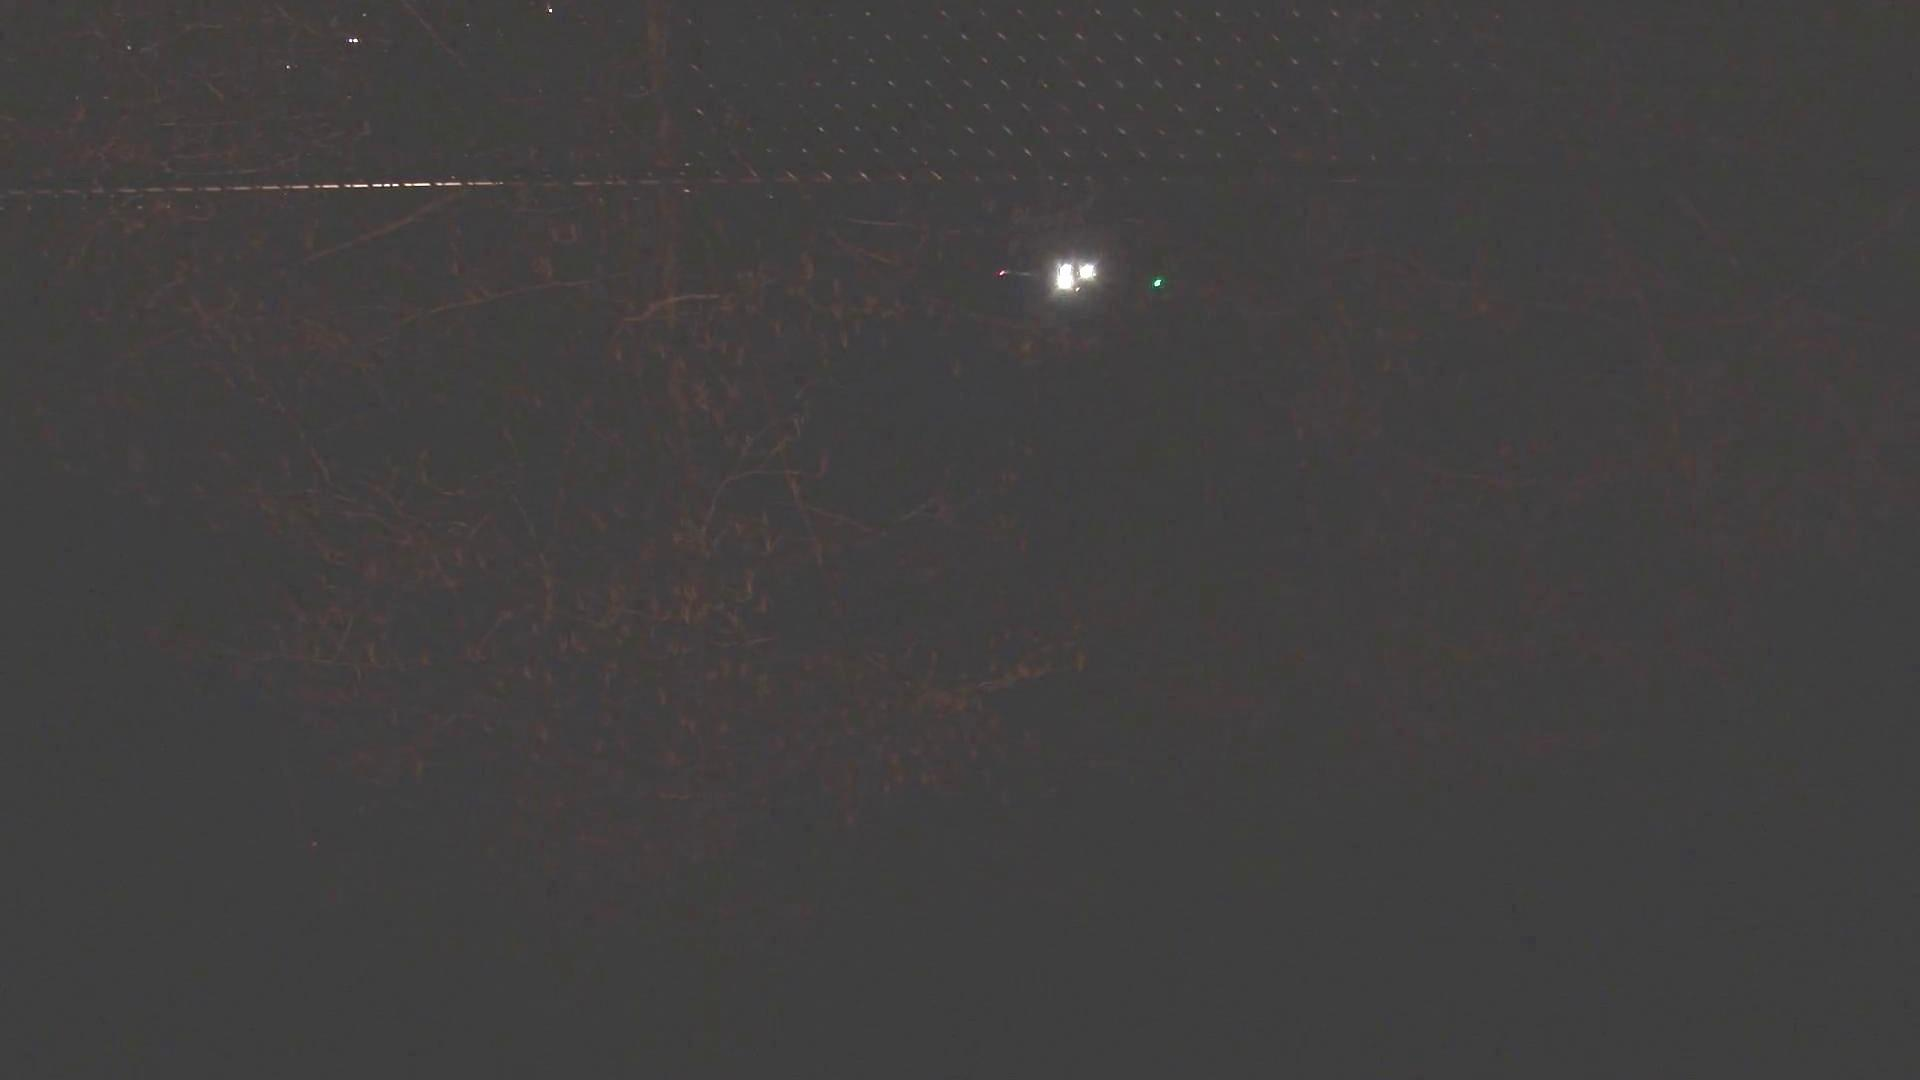Plane: (963, 247, 1170, 307)
